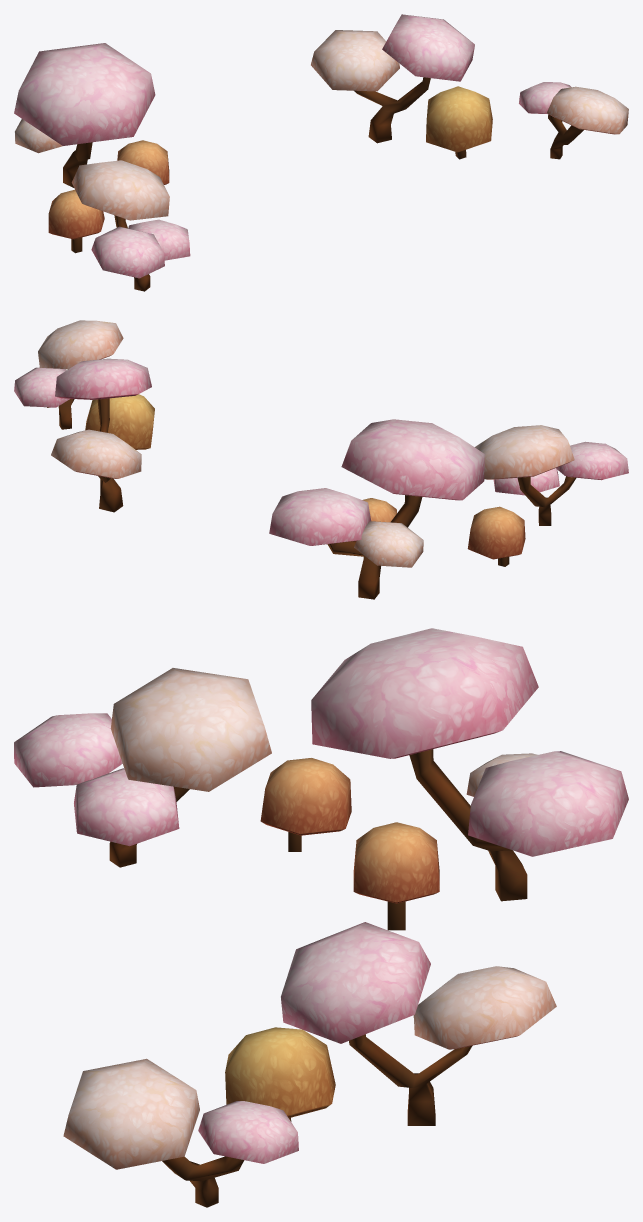
The model's file is Koto_trees.fbx.
3 views of the same model, one above another, from view 1: azimuth 30°, elevation 25°; view 2: azimuth 150°, elevation 25°; view 3: azimuth 270°, elevation 25° (orthographic). The views are drawn at different scales.
Parts seen in each view (by area): view 1: polySurface729; view 2: polySurface729; view 3: polySurface729.
Boxes of the visible parts, x1,y1,x2,y2 form: polySurface729: (14,14,628,291); polySurface729: (14,320,628,599); polySurface729: (14,628,628,1207).
Size of the model in its own units: 56.82 by 15.14 by 34.1.
